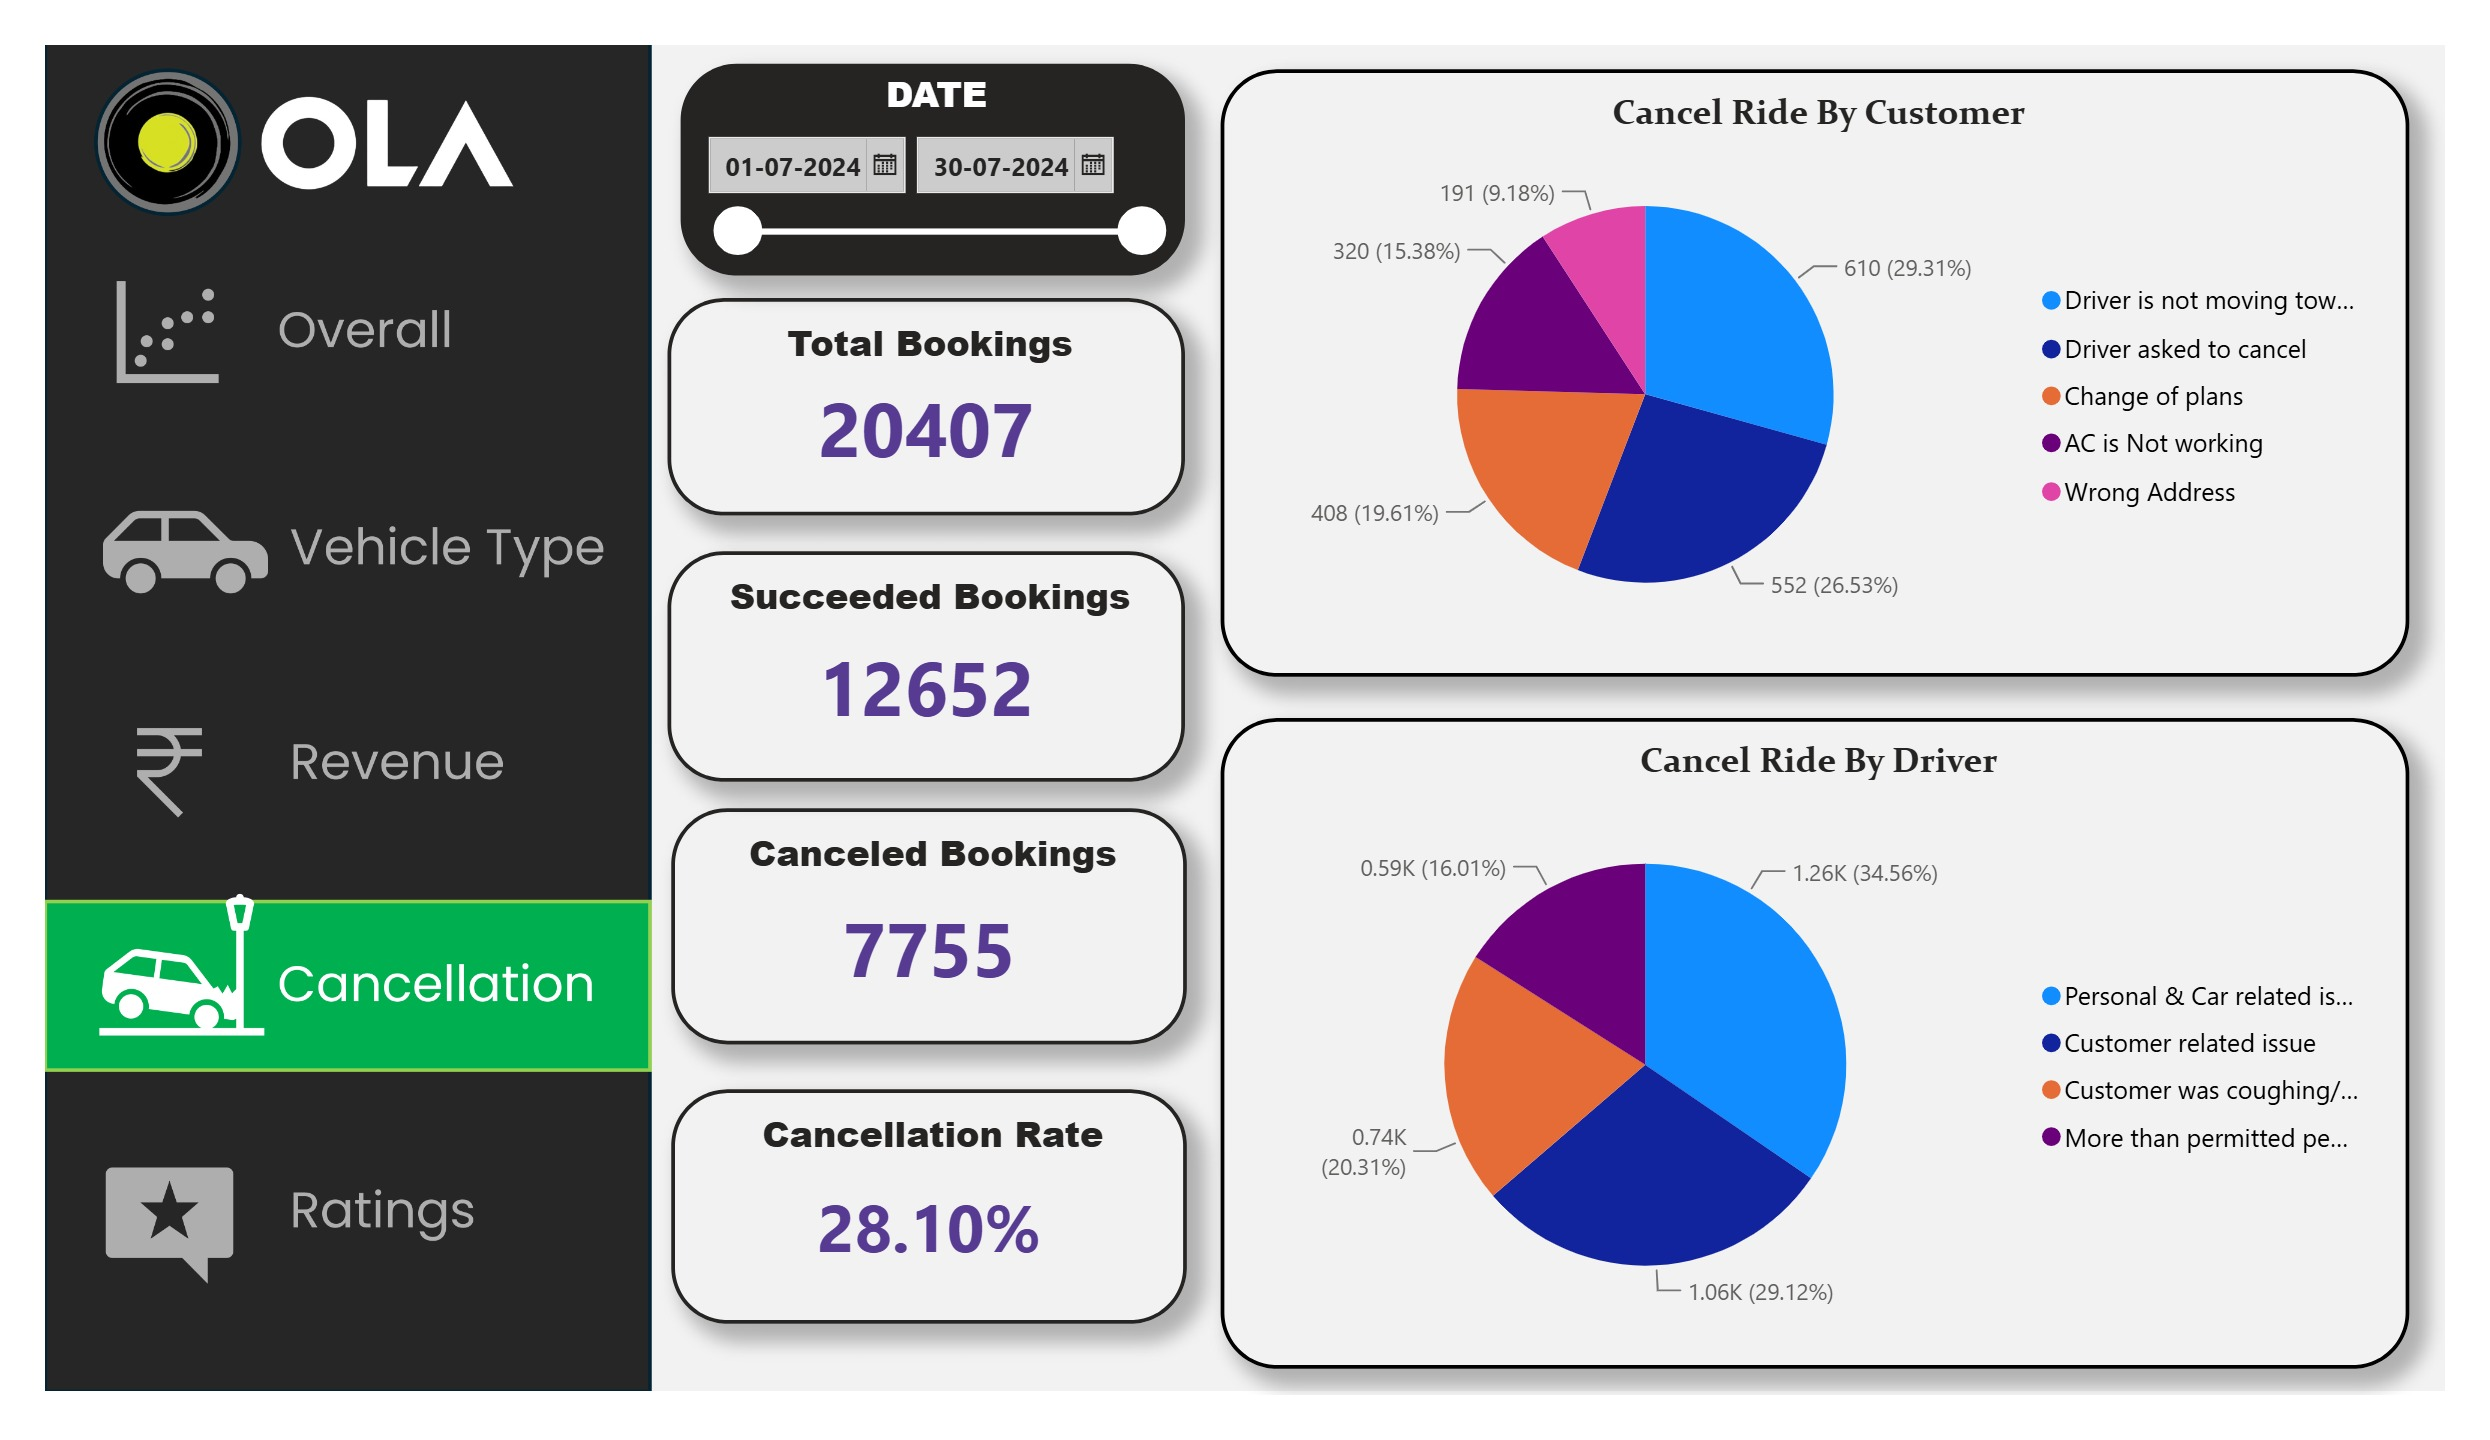

The dashboard page shown, as its layout file describes it:
{"tool":"powerbi","page":{"name":"Cancellation","canvas":[1280,720],"ordinal":3},"visuals":[{"type":"actionButton","box":[0,575.8,324.5,89.1],"z":0},{"type":"actionButton","box":[0,225.9,324.5,89.1],"z":1000},{"type":"actionButton","box":[0,337.2,324.5,89.1],"z":2000},{"type":"actionButton","box":[0,108.2,324.5,89.1],"z":3000},{"type":"pieChart","title":"Cancel Ride By Customer","fields":{"Category":["Bookings (2).Canceled_Rides_by_Customer"],"Y":["CountNonNull(Bookings (2).Canceled_Rides_by_Customer)"]},"box":[626.7,12.7,634.7,324.5],"z":4000},{"type":"pieChart","title":"Cancel Ride By Driver","fields":{"Category":["Bookings (2).Canceled_Rides_by_Driver"],"Y":["CountNonNull(Bookings (2).Canceled_Rides_by_Driver)"]},"box":[626.7,359.5,634.7,346.8],"z":5000},{"type":"slicer","title":"DATE","fields":{"Values":["Bookings (2).Date"]},"box":[338.8,10,268.8,112.9],"z":6000},{"type":"cardVisual","title":"Total Bookings","fields":{"Data":["Count(Bookings (2).Booking_ID)"]},"box":[332.4,135.2,275.2,116.1],"z":7000},{"type":"cardVisual","title":"Succeeded Bookings","fields":{"Data":["Count(Bookings (2).Booking_ID)"]},"box":[332.4,270.4,275.2,122.5],"z":8000},{"type":"cardVisual","title":"Canceled Bookings","fields":{"Data":["Count(Bookings (2).Booking_ID)"]},"box":[334,407.2,275.2,125.7],"z":9000},{"type":"cardVisual","title":"Cancellation Rate","fields":{"Data":["Bookings.Cancellation Rate"]},"box":[334,556.7,275.2,125.7],"z":10000}]}

Visuals, with their boxes in screenshot pixels (x1, y1, x2, y2), scaled from the page's 1280x720 canvas onto the 2490x1440 screenshot:
actionButton: left=0, top=1152, right=631, bottom=1330
actionButton: left=0, top=452, right=631, bottom=630
actionButton: left=0, top=674, right=631, bottom=853
actionButton: left=0, top=216, right=631, bottom=395
"Cancel Ride By Customer" pieChart: left=1219, top=25, right=2454, bottom=674
"Cancel Ride By Driver" pieChart: left=1219, top=719, right=2454, bottom=1413
"DATE" slicer: left=659, top=20, right=1182, bottom=246
"Total Bookings" cardVisual: left=647, top=270, right=1182, bottom=503
"Succeeded Bookings" cardVisual: left=647, top=541, right=1182, bottom=786
"Canceled Bookings" cardVisual: left=650, top=814, right=1185, bottom=1066
"Cancellation Rate" cardVisual: left=650, top=1113, right=1185, bottom=1365
